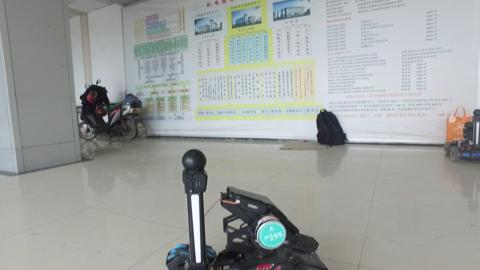bag: (315, 106, 349, 147), (445, 103, 473, 144)
chariot: (159, 145, 329, 270), (444, 107, 480, 164)
